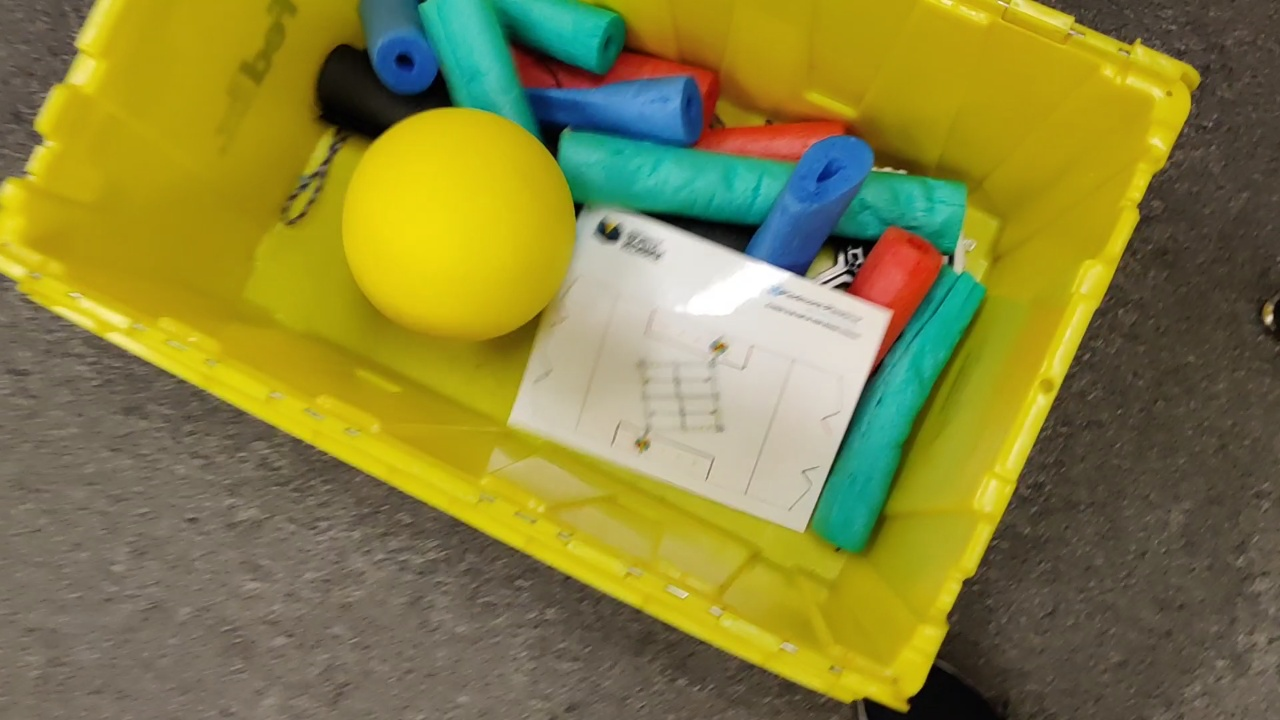Ball: (345, 109, 576, 337)
